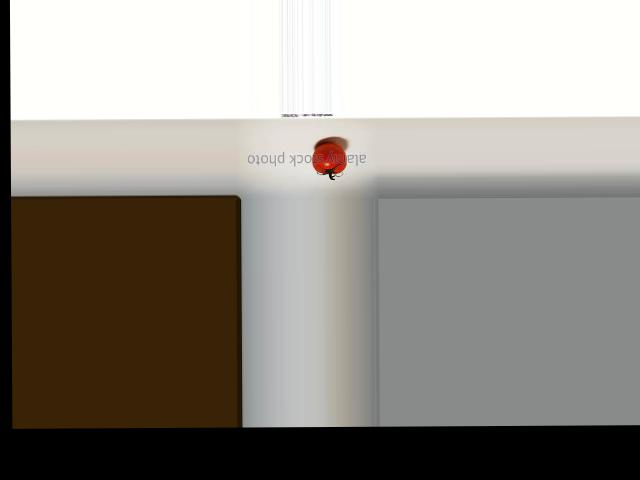tomato: (311, 142, 346, 174)
